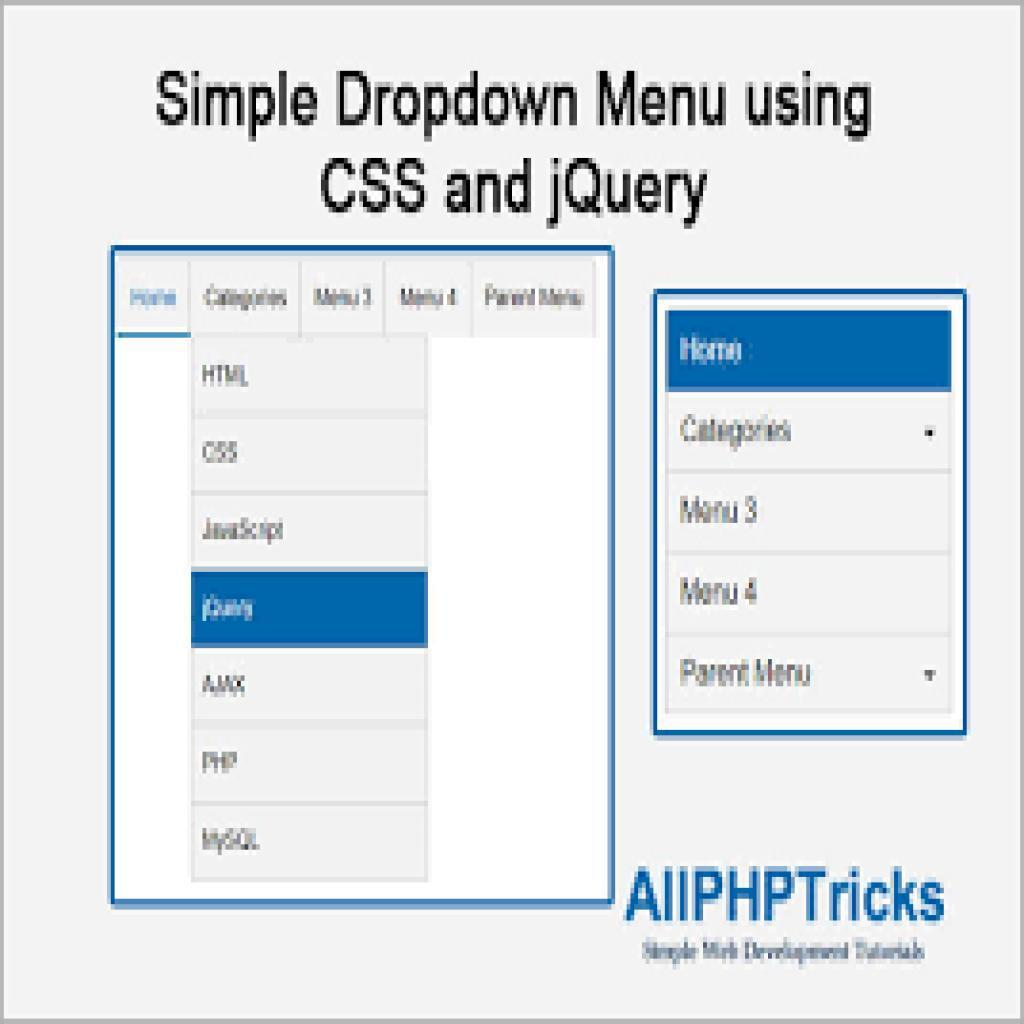button: (668, 310, 954, 391), (191, 568, 431, 649)
dropdown: (666, 639, 952, 716), (670, 392, 948, 467)
